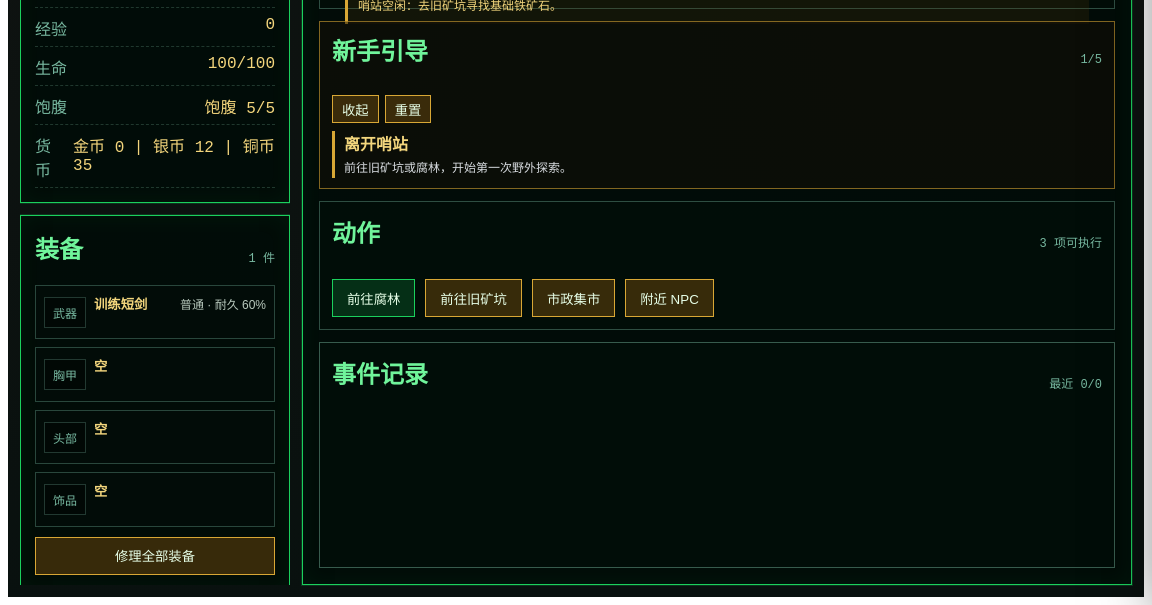
Test: GameShell › enters the forest, supports keyboard movement, gathering, and item detail dialogs
This screenshot has width=1152, height=605.
(page scrolled)
Click the button "前往腐林": (374, 298) [332,279,415,317]
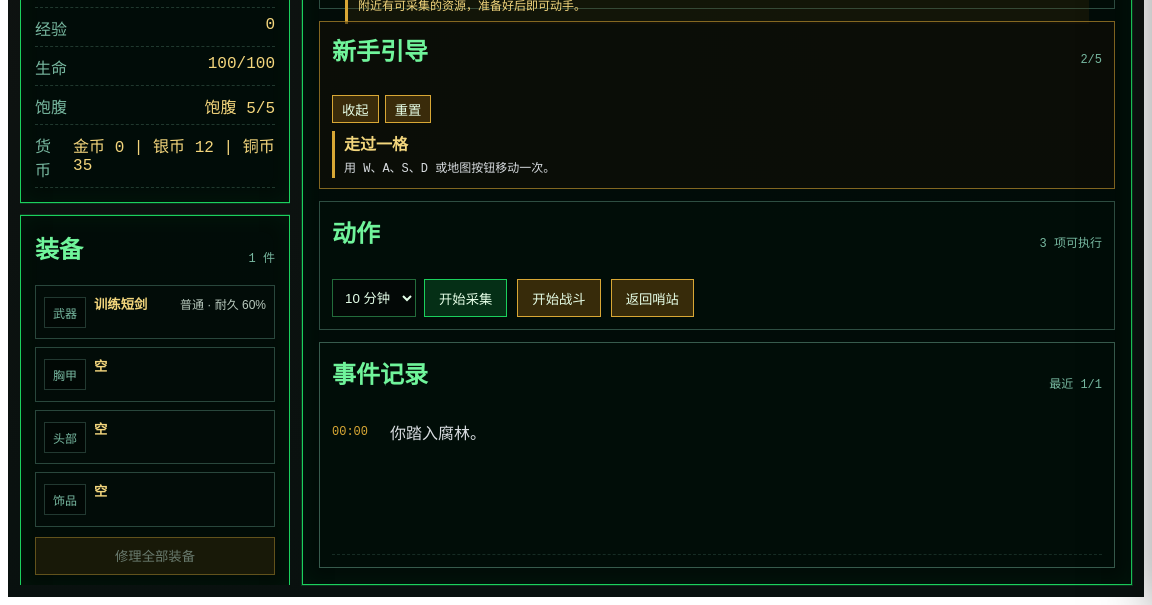
Now the button "开始采集" is shown, box [424,279,507,317]
Press w
(page scrolled)
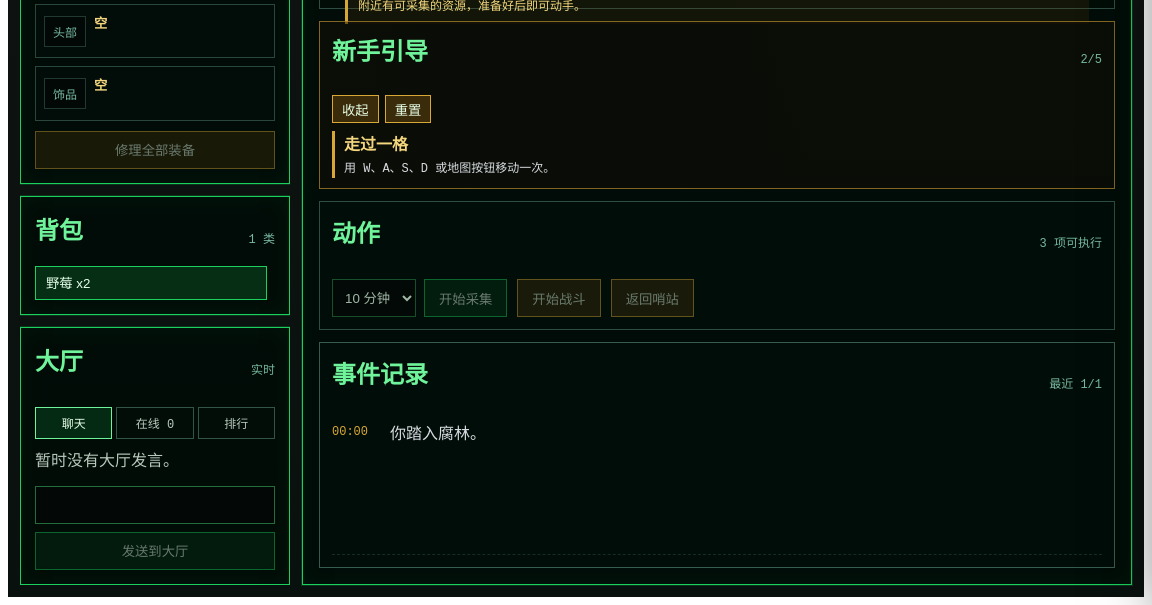
Click the button "野莓 x2": (151, 283) [35,266,267,300]
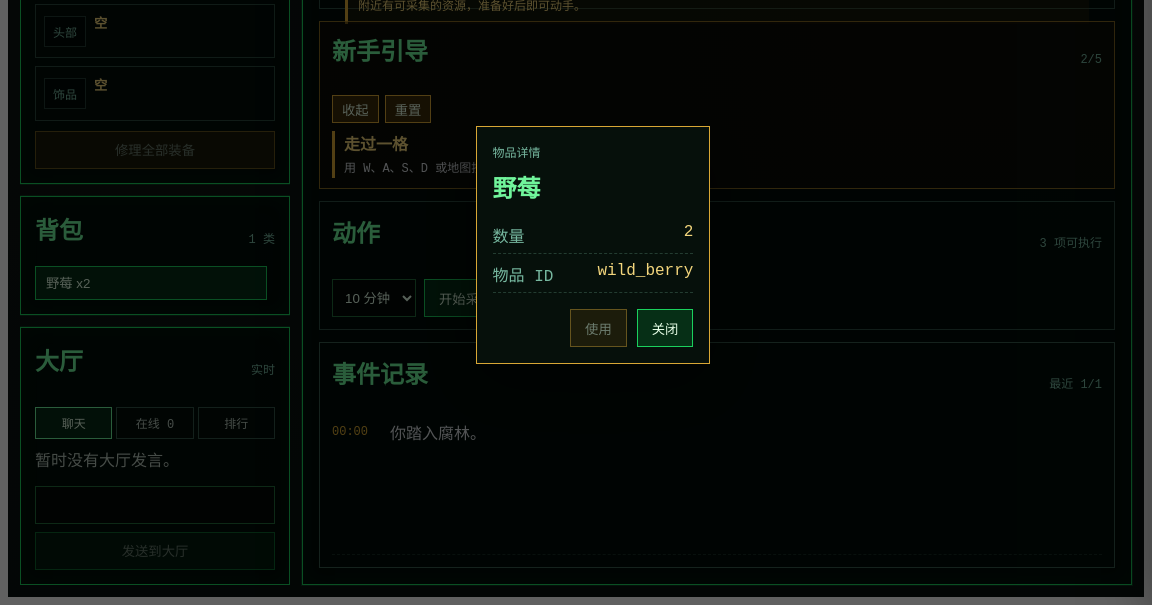
Now the dialog "野莓" is shown, box [476,126,710,364]
Now the button "关闭" is shown, box [637,310,694,348]
